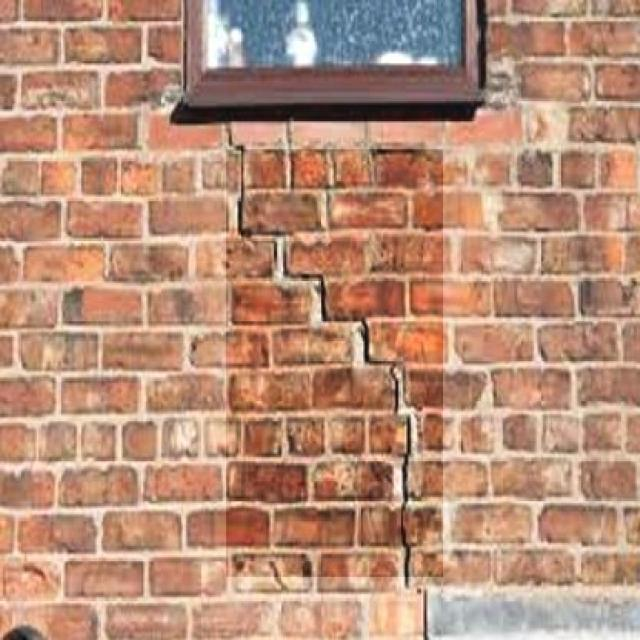crack: (216, 144, 438, 606)
